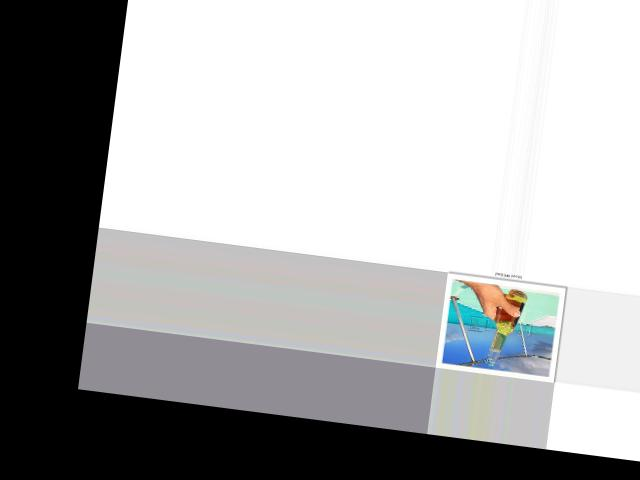beer: (483, 287, 529, 368)
